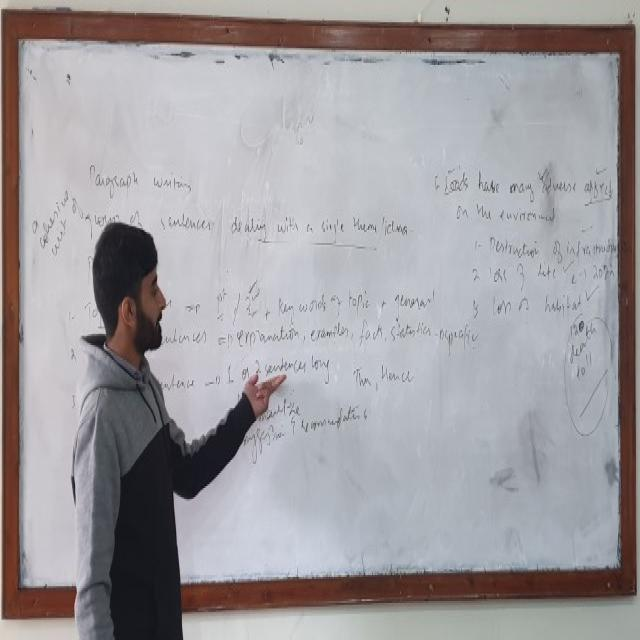Instructor: (61, 205, 193, 632)
White-board: (11, 20, 628, 602)
